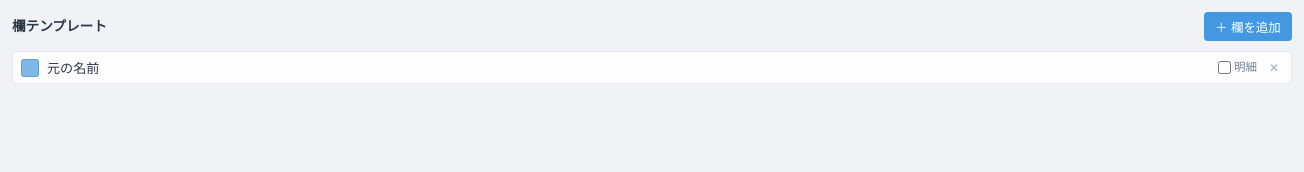
Scenario: FieldListPanel › Escape を押すと編集をキャンセルして元の名前に戻る
Click the button with aria-label "元の名前（クリックで名前を編集）".
click(73, 69)  # box [47,58,1210,77]
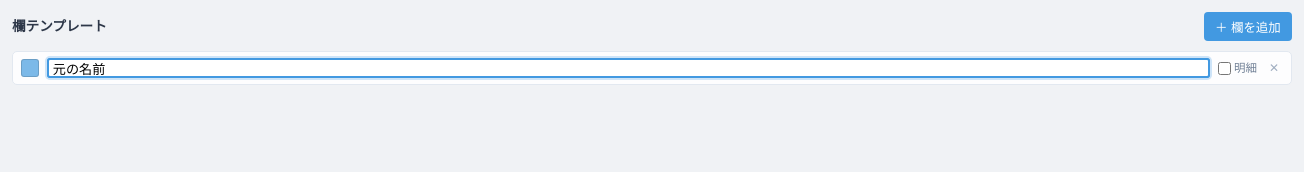
Replace the text in the field named "欄の名前を編集" with "変更後" at (628, 68), box [47,58,1210,78]
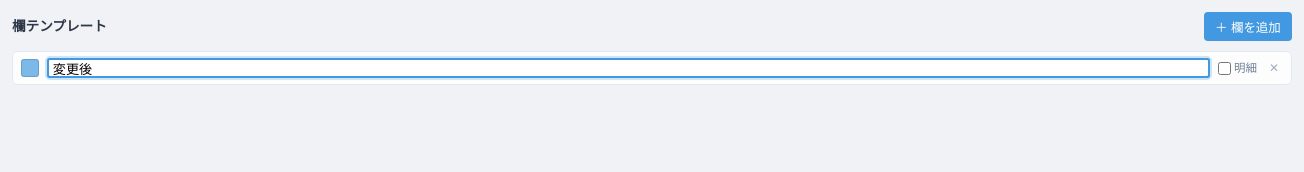
Press Escape in the field named "欄の名前を編集", box [47,58,1210,78]
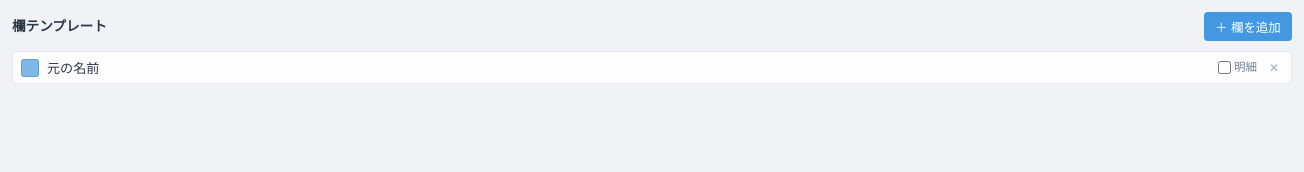
Result: the button "元の名前" is shown at [47,58,1210,77]
Result: the field is gone
